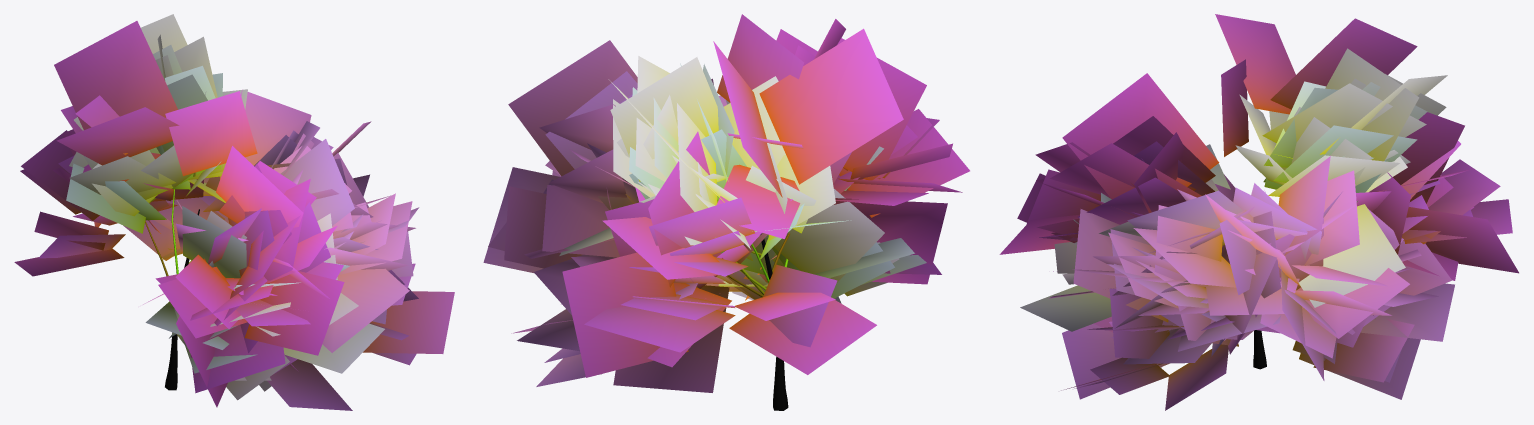
Rendered from tree_pagoda_c_lod1.glb.
3 renders of one model, left to right at view 1: azimuth 30°, elevation 25°; view 2: azimuth 150°, elevation 25°; view 3: azimuth 270°, elevation 25°, orthographic. The views are drawn at different scales.
Visible parts, largest first — view 1: tree_pagoda_c_lod1; view 2: tree_pagoda_c_lod1; view 3: tree_pagoda_c_lod1.
Part boxes in pixels (bbox=[...]): tree_pagoda_c_lod1: bbox=[14, 14, 454, 410]; tree_pagoda_c_lod1: bbox=[483, 14, 969, 410]; tree_pagoda_c_lod1: bbox=[999, 14, 1518, 410].
Bounding box in the file's own units: 15.82 × 15.55 × 20.74.
